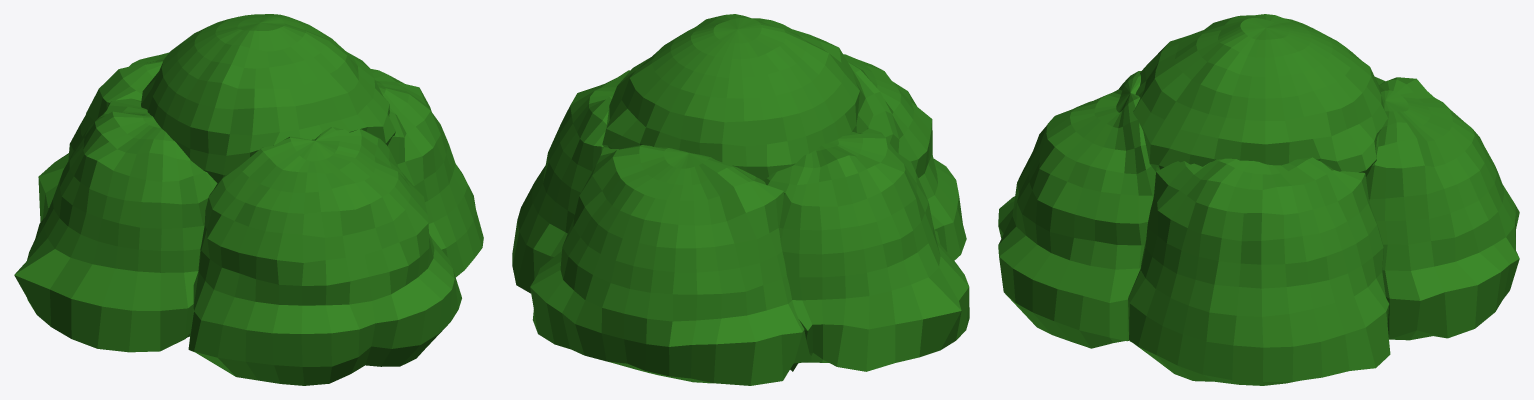
The model's file is bosje.fbx.
3 renders of one model, left to right at view 1: azimuth 30°, elevation 25°; view 2: azimuth 150°, elevation 25°; view 3: azimuth 270°, elevation 25°, orthographic. The views are drawn at different scales.
Parts seen in each view (by area): view 1: Sphere; view 2: Sphere; view 3: Sphere.
Part boxes in pixels (x1=…): Sphere: x1=14, y1=14, x2=483, y2=385; Sphere: x1=512, y1=14, x2=969, y2=385; Sphere: x1=998, y1=14, x2=1519, y2=385.
Size of the model in its own units: 4.29 by 2.69 by 4.29.
